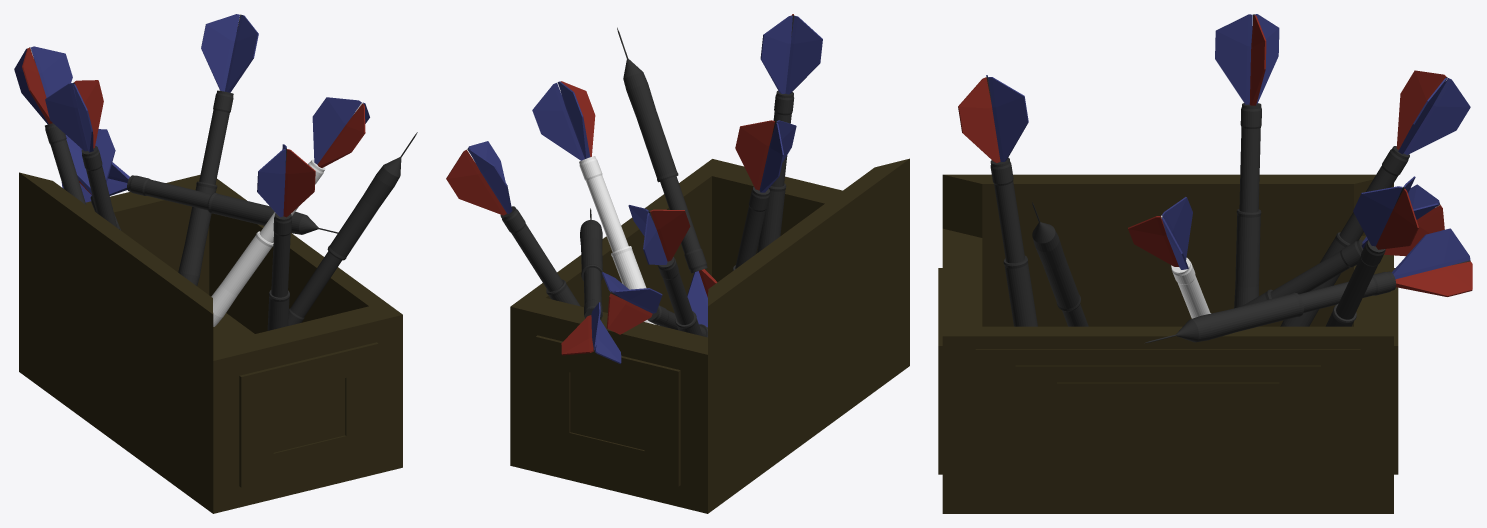
The model's file is dart bakje.fbx.
3 views of the same model, side by side, from view 1: azimuth 30°, elevation 25°; view 2: azimuth 150°, elevation 25°; view 3: azimuth 270°, elevation 25° (orthographic). The views are drawn at different scales.
Parts seen in each view (by area): view 1: Cube, Cylinder.006, Cylinder.002, Cylinder.007, Cylinder.001, Cylinder.003, Cube.007, Cube.004, Cube.013, Cube.011, Cube.002, Cube.010 (+10 smaller); view 2: Cube, Cylinder.006, Cylinder.001, Cylinder.002, Cube.006, Cylinder.007, Cylinder.003, Cube.009, Cube.010, Cube.015, Cube.012, Cylinder (+13 smaller); view 3: Cube, Cylinder.007, Cylinder.004, Cylinder.003, Cylinder.006, Cube.014, Cylinder, Cube.022, Cube.003, Cube.012, Cube.011, Cylinder.005 (+11 smaller).
Boxes of the visible parts, x1,y1,x2,y2 form: Cube: (19, 172, 402, 513); Cylinder.006: (288, 132, 417, 325); Cylinder.002: (178, 14, 241, 285); Cylinder.007: (127, 175, 338, 234); Cylinder.001: (211, 102, 363, 326); Cylinder.003: (267, 148, 291, 330); Cube.007: (201, 14, 239, 91); Cube.004: (312, 97, 361, 164); Cube.013: (45, 83, 87, 151); Cube.011: (283, 149, 315, 217); Cube.002: (30, 46, 72, 97); Cube.010: (257, 149, 285, 217); Cube: (510, 158, 909, 513); Cylinder.006: (617, 27, 707, 273); Cylinder.001: (557, 82, 656, 324); Cylinder.002: (467, 148, 580, 306); Cube.006: (532, 83, 584, 160); Cylinder.007: (580, 208, 602, 351); Cylinder.003: (757, 15, 794, 252); Cube.009: (446, 149, 506, 215); Cube.010: (785, 16, 822, 94); Cube.015: (735, 120, 774, 190); Cube.012: (760, 15, 792, 93); Cylinder: (648, 211, 702, 336); Cube: (938, 174, 1398, 513); Cylinder.007: (1144, 260, 1470, 343); Cylinder.004: (1234, 14, 1261, 308); Cylinder.003: (986, 76, 1037, 326); Cylinder.006: (1032, 202, 1088, 326); Cube.014: (1215, 14, 1252, 104); Cylinder: (1280, 77, 1447, 326); Cube.022: (1392, 228, 1470, 279); Cube.003: (1403, 78, 1470, 154); Cube.012: (988, 77, 1028, 161); Cube.011: (958, 77, 1000, 162); Cylinder.005: (1242, 203, 1440, 306).
Bounding box in the file's own units: 315 × 355 × 442.
